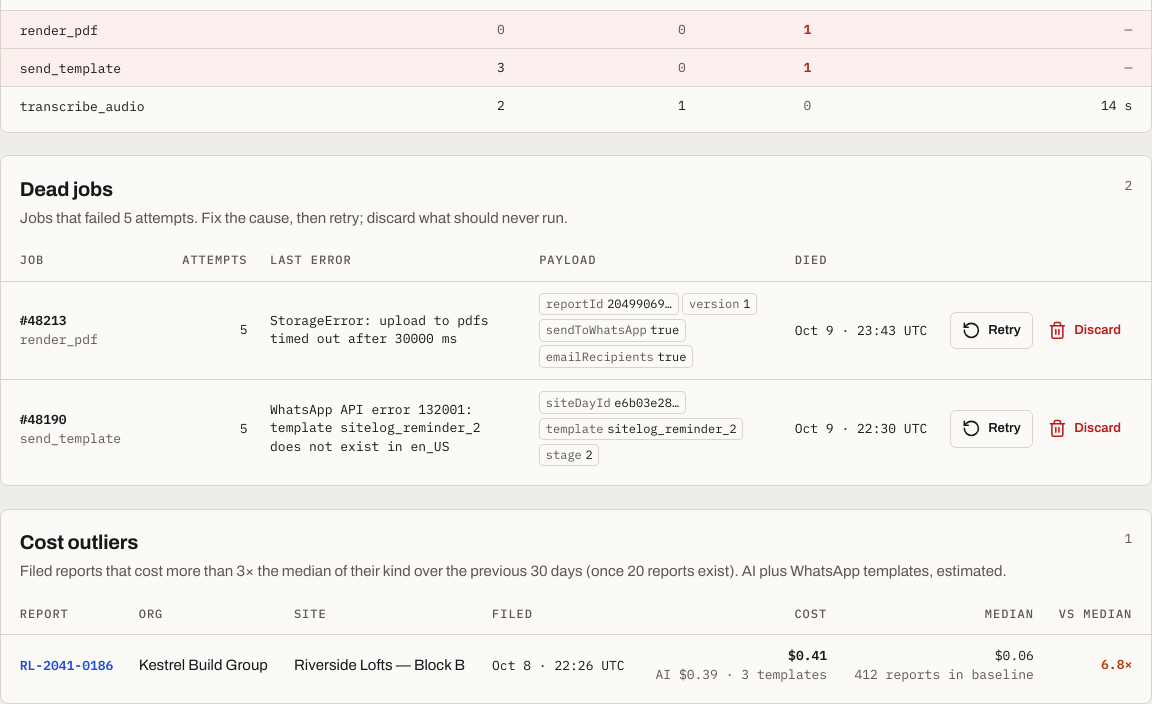
Test: OpsPage (demo data) › discards a dead job through the destructive confirm; cancel leaves it alone
(page scrolled)
Click the button with aria-label "Discard job 48190".
click(1084, 429)  # box x1=1037 y1=410 x2=1132 y2=448
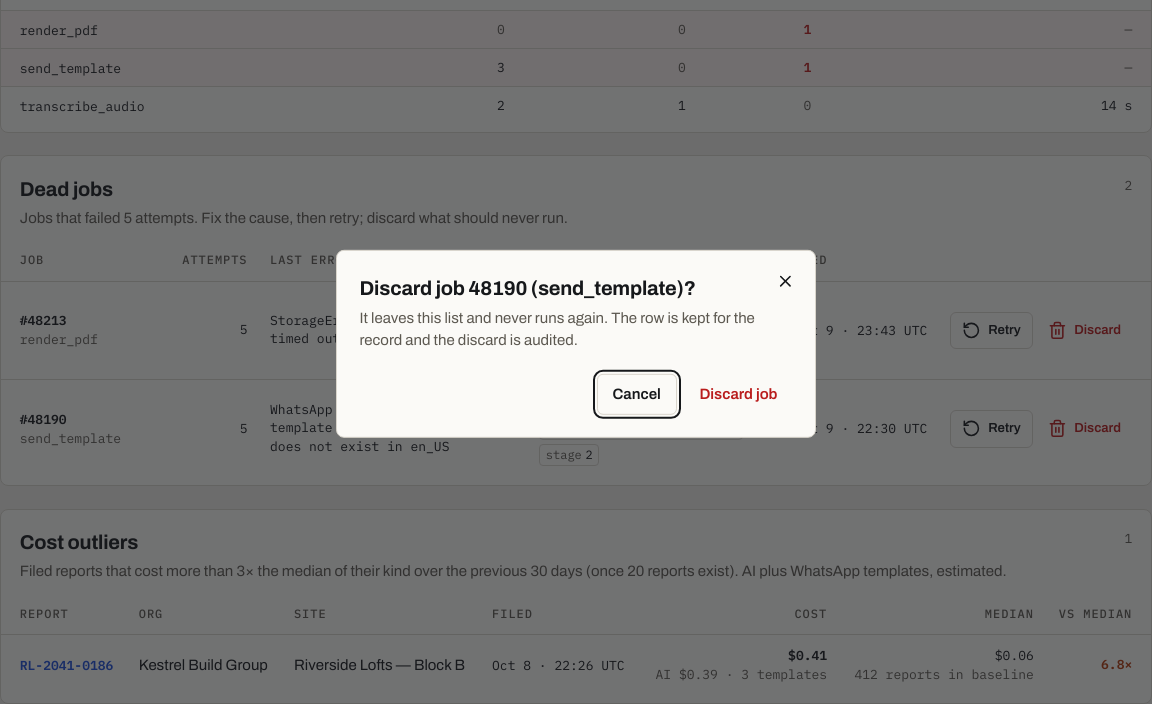
Click the button "Cancel".
click(637, 394)  # box x1=596 y1=373 x2=677 y2=415
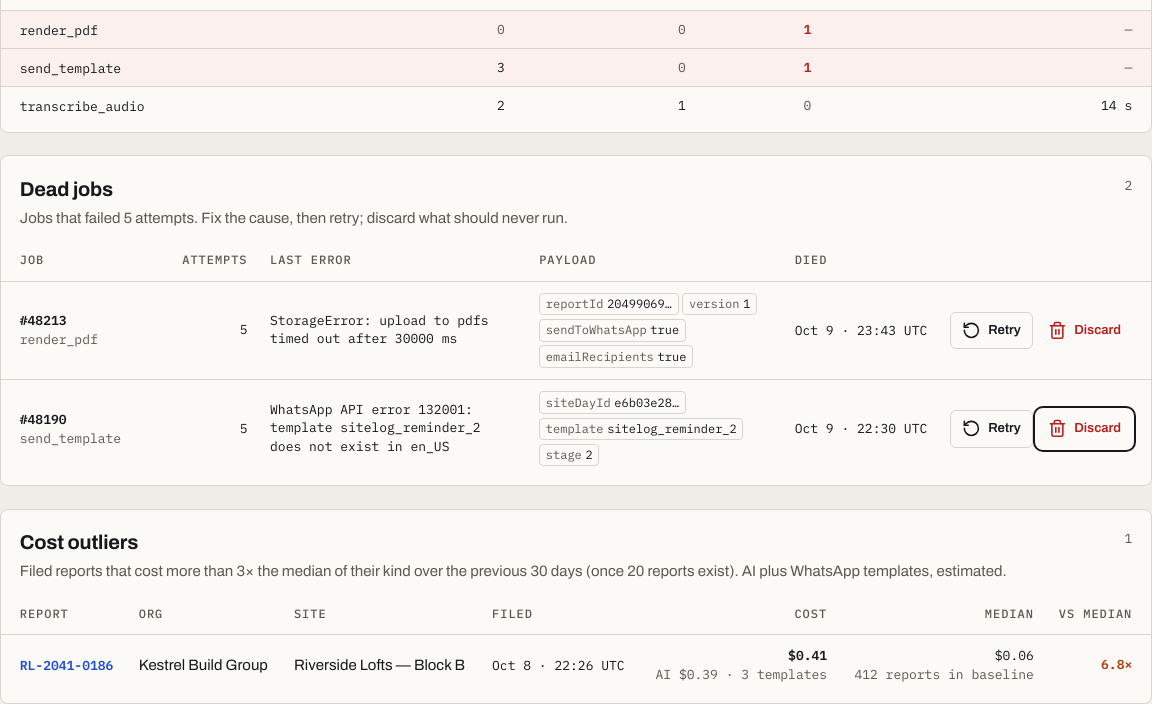
Check: the text "#48190" is shown, box x1=20 y1=411 x2=67 y2=428
Check: the dialog is gone
Click the button with aria-label "Discard job 48190".
click(1084, 429)  # box x1=1037 y1=410 x2=1132 y2=448
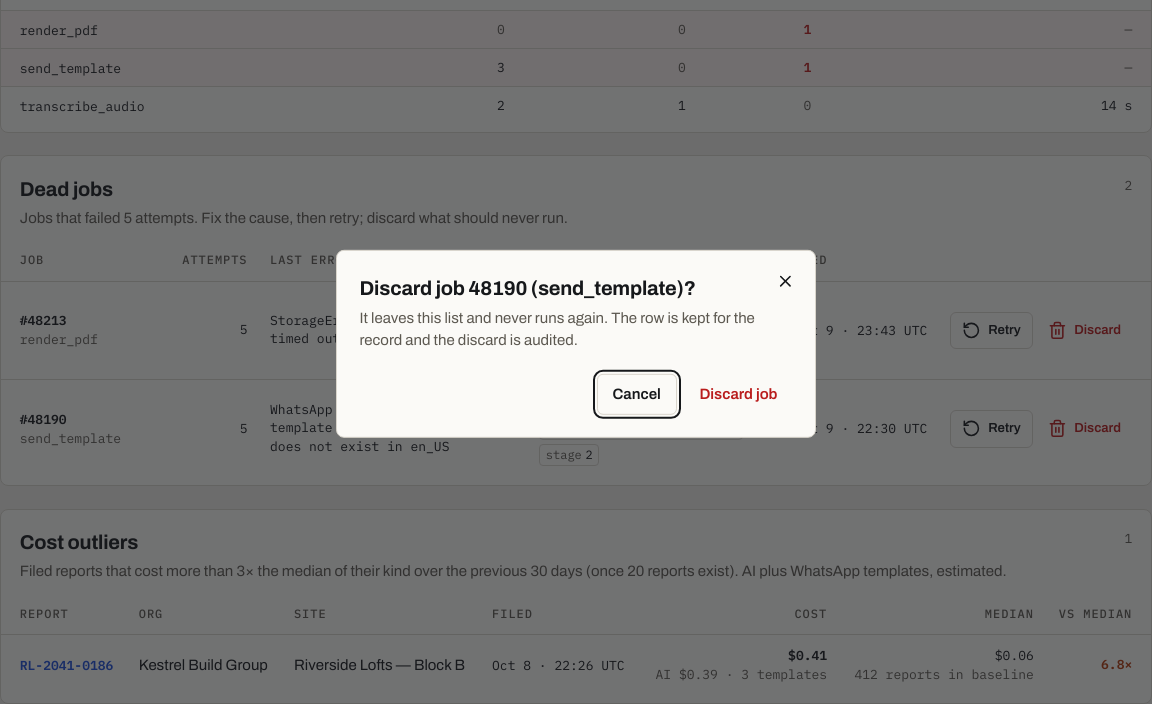
Check: the dialog shows "Discard job 48190 (send_template)?", box x1=360 y1=276 x2=696 y2=298
Click the button "Discard job".
click(738, 394)  # box x1=684 y1=373 x2=792 y2=415
(page scrolled)
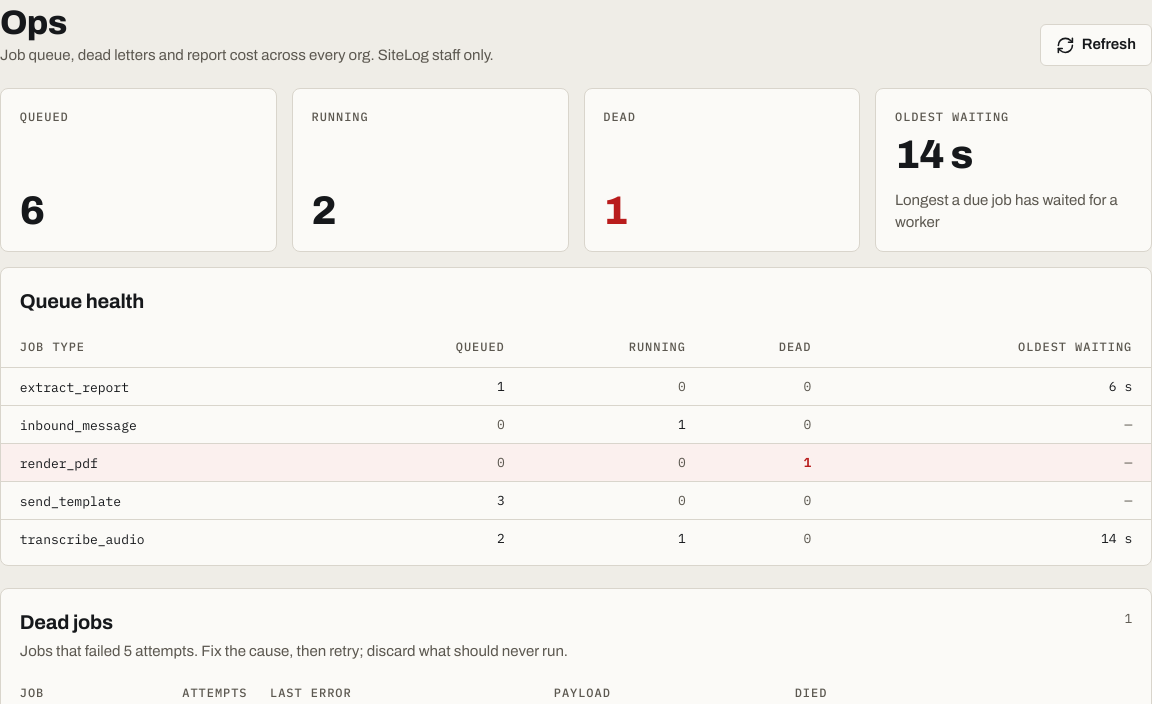
Check: the text "#48190" is gone
